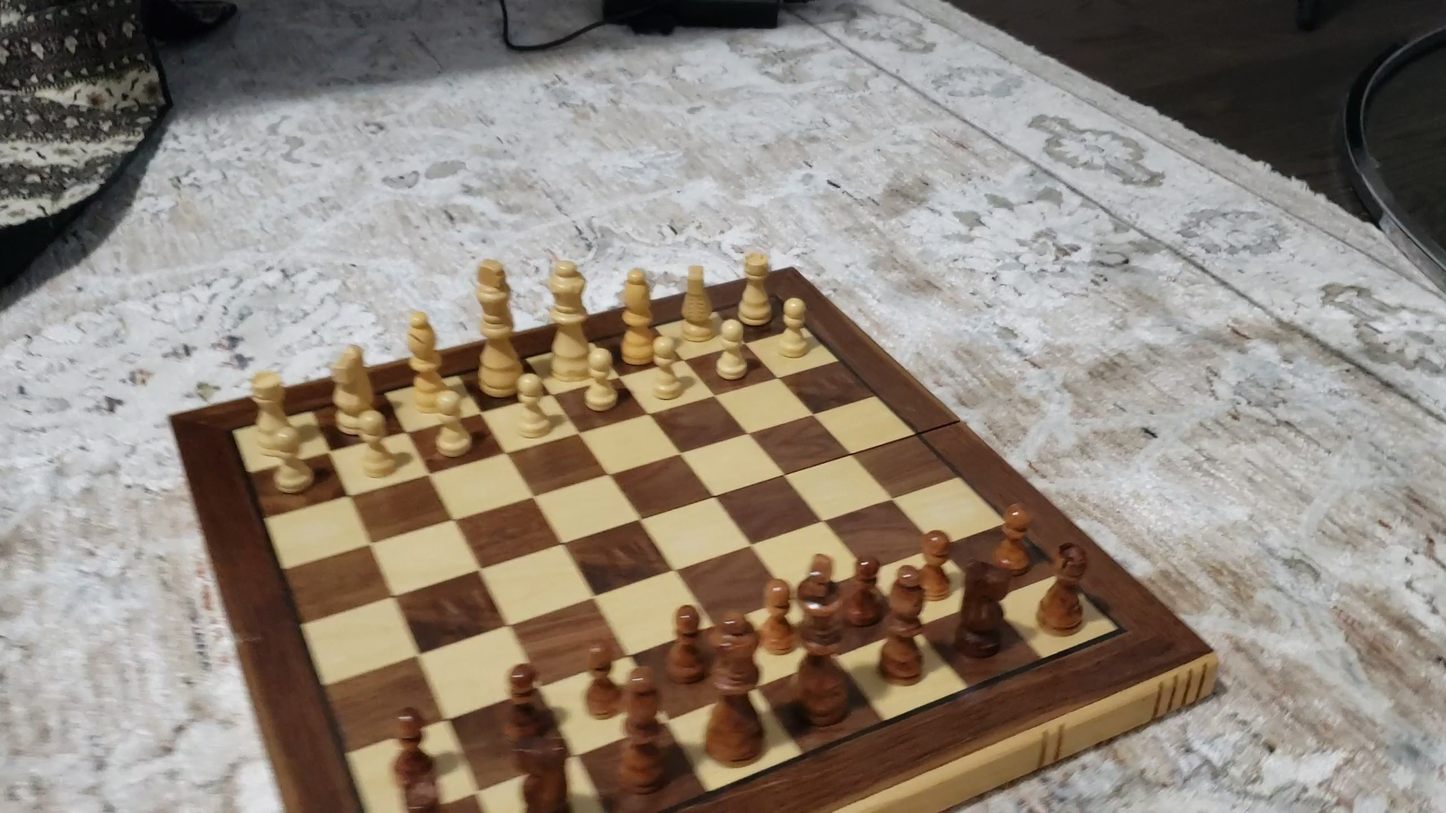black-bishop: (616, 666, 670, 794), (877, 566, 930, 685)
black-king: (788, 565, 855, 726)
black-knight: (952, 557, 1016, 661), (507, 728, 575, 811)
black-pawn: (376, 700, 445, 781), (500, 659, 546, 742), (988, 499, 1038, 575), (664, 601, 709, 685), (842, 551, 888, 629), (580, 639, 621, 721), (755, 576, 795, 657), (915, 526, 956, 601)
black-queen: (701, 615, 765, 768)
black-rook: (1036, 541, 1090, 635)
white-bishop: (402, 307, 448, 413), (617, 264, 655, 366)
white-king: (472, 254, 522, 399)
white-knight: (326, 343, 381, 439), (677, 261, 716, 344)
white-pawn: (264, 426, 319, 500), (350, 408, 403, 483), (428, 387, 478, 462), (508, 371, 558, 442), (770, 293, 819, 364), (578, 343, 624, 416), (644, 333, 689, 405), (708, 315, 754, 385)
white-queen: (546, 256, 591, 380)
white-rook: (245, 368, 300, 456), (735, 246, 778, 334)
